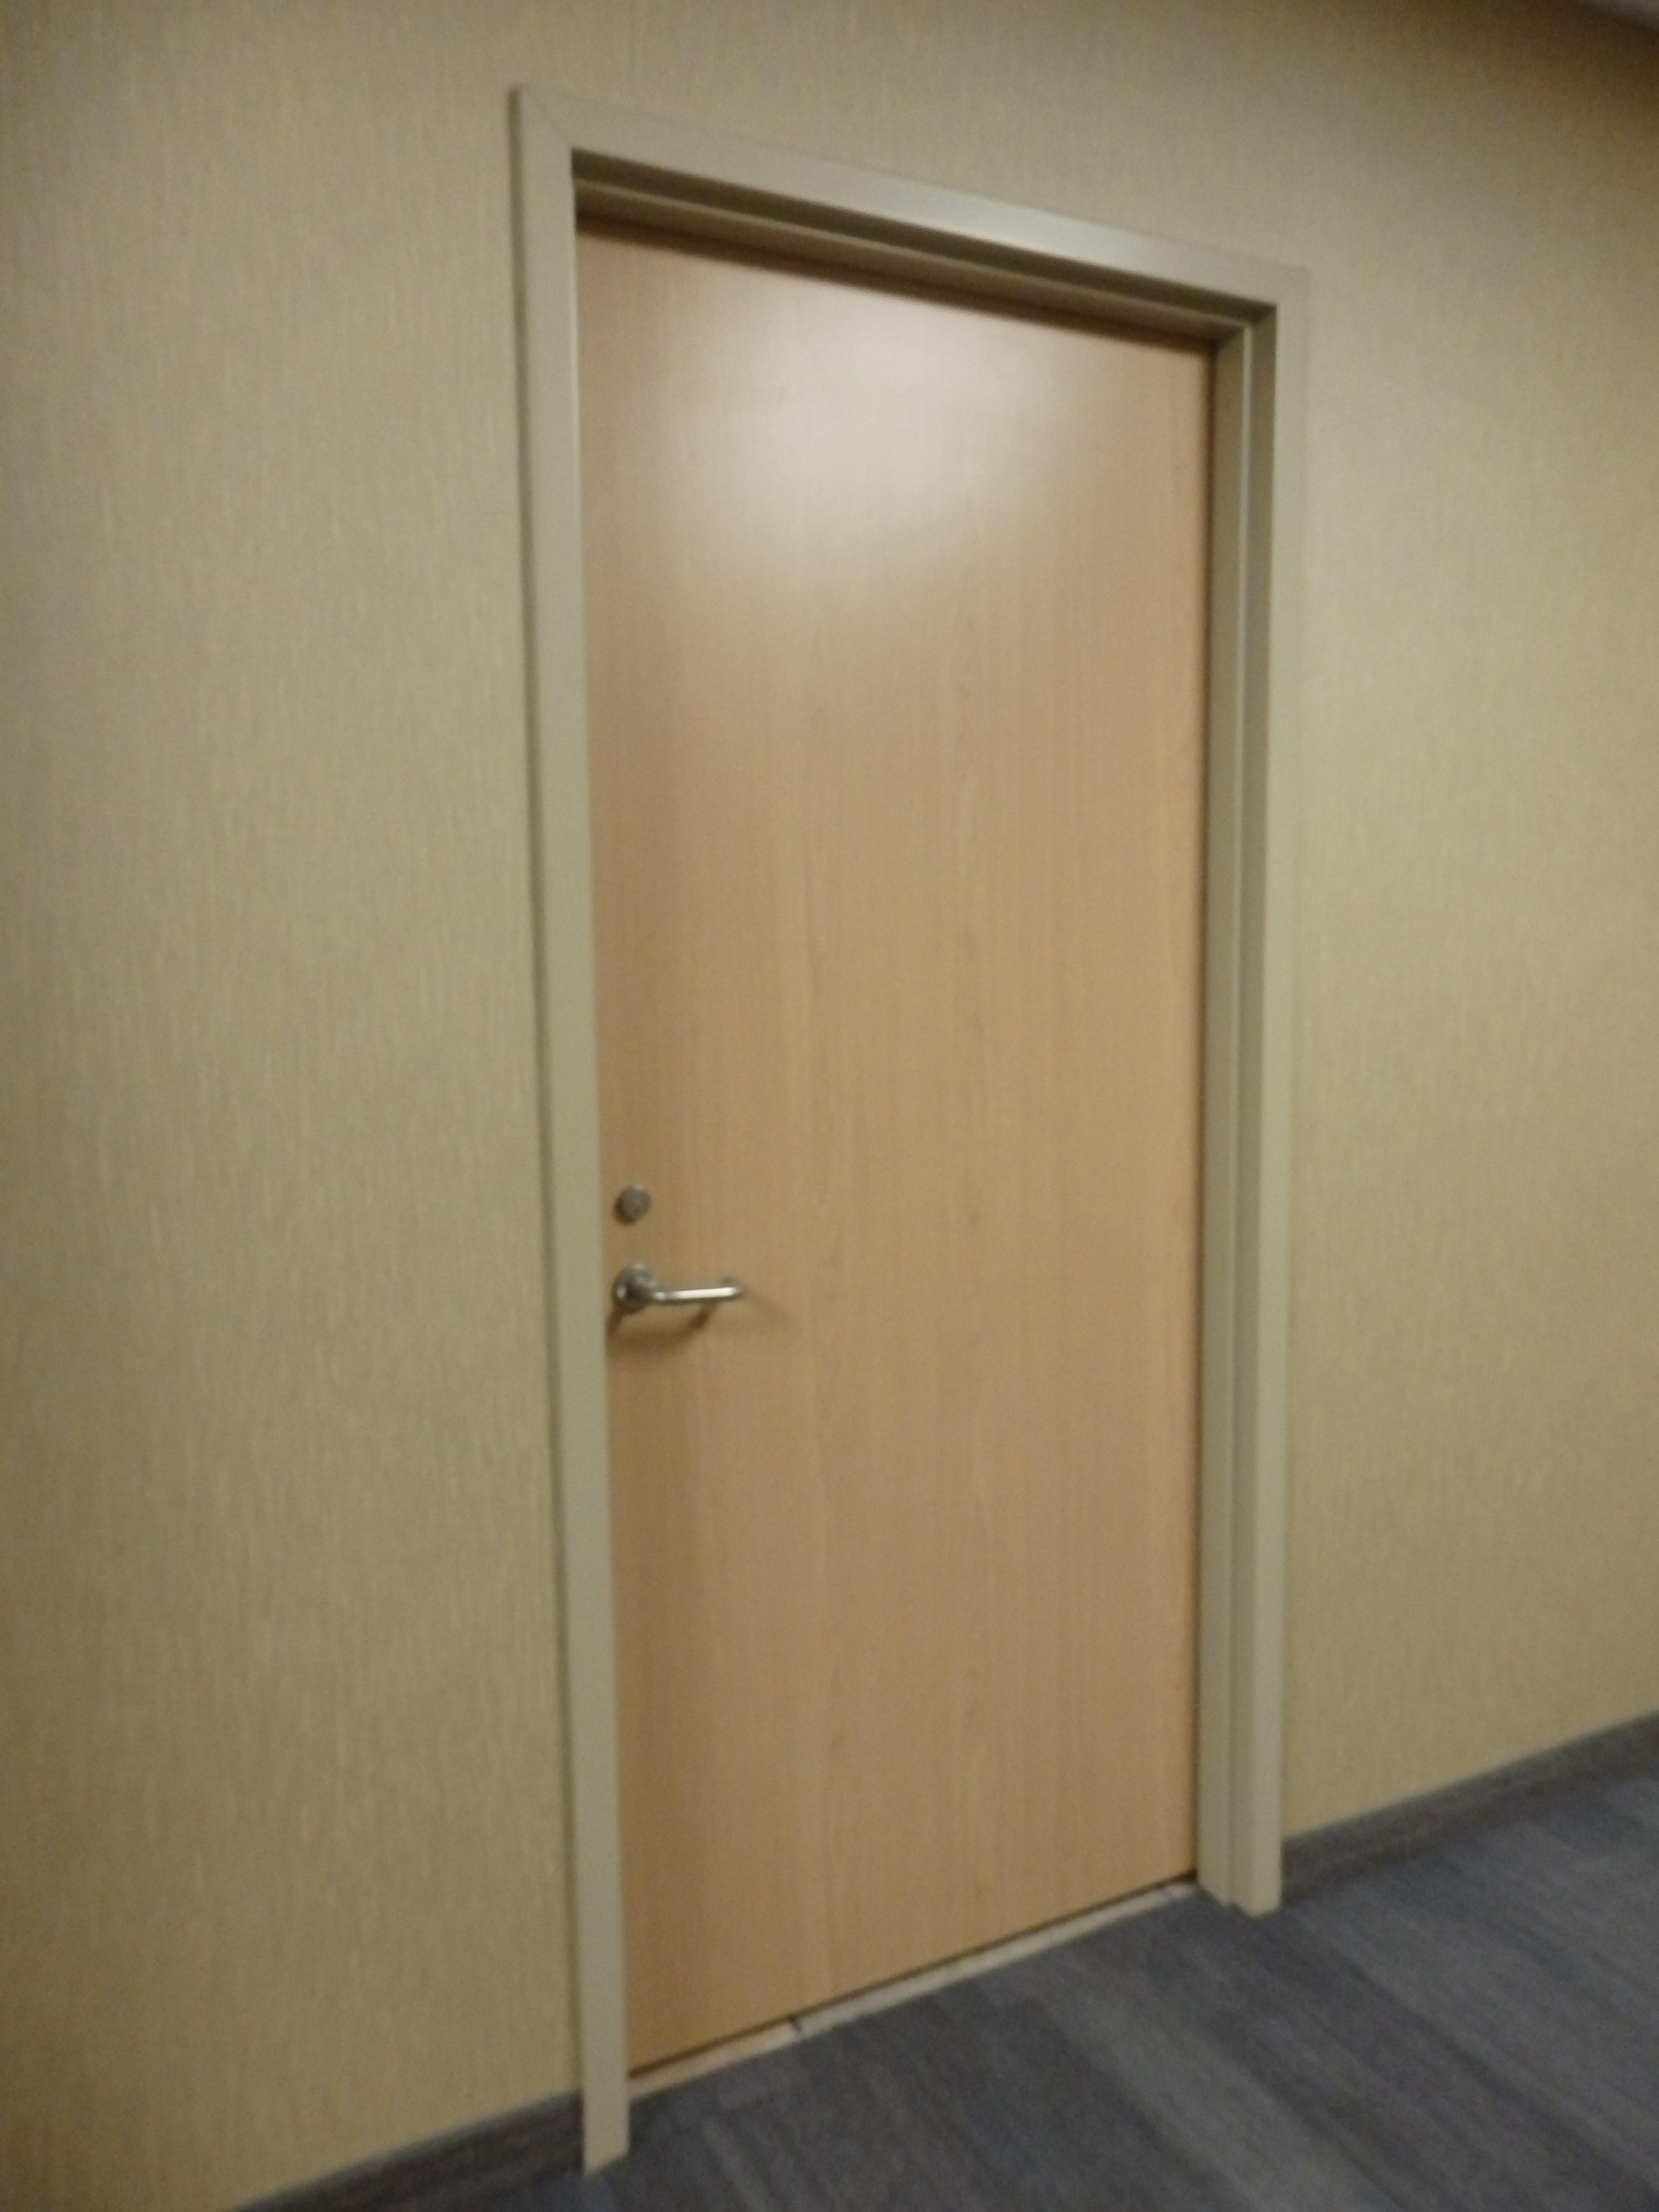door: (518, 85, 1310, 2174)
